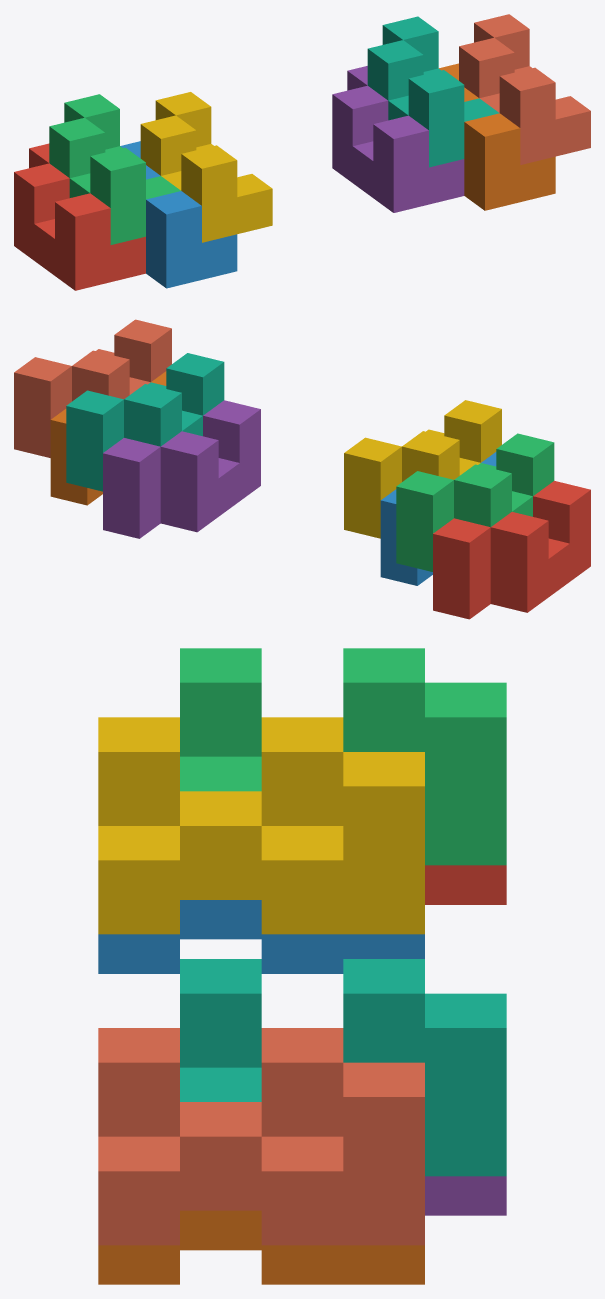
The model's file is tiling.obj.
The picture shows the model from 3 angles, top to bottom: view 1: azimuth 30°, elevation 25°; view 2: azimuth 150°, elevation 25°; view 3: azimuth 270°, elevation 25°; orthographic projection. The views are drawn at different scales.
Parts seen in each view (by area): view 1: copy_1_domain_5, copy_1_domain_1, copy_1_domain_4, copy_1_domain_8, copy_1_domain_7, copy_1_domain_3, copy_1_domain_6, copy_1_domain_2; view 2: copy_1_domain_1, copy_1_domain_5, copy_1_domain_7, copy_1_domain_3, copy_1_domain_4, copy_1_domain_8, copy_1_domain_6, copy_1_domain_2; view 3: copy_1_domain_8, copy_1_domain_4, copy_1_domain_3, copy_1_domain_7, copy_1_domain_6, copy_1_domain_2, copy_1_domain_1, copy_1_domain_5.
Part boxes in pixels (bbox=[...]): copy_1_domain_5: bbox=[332, 66, 464, 212]; copy_1_domain_1: bbox=[14, 143, 145, 290]; copy_1_domain_4: bbox=[140, 92, 272, 242]; copy_1_domain_8: bbox=[459, 14, 590, 164]; copy_1_domain_7: bbox=[367, 16, 499, 167]; copy_1_domain_3: bbox=[49, 94, 180, 244]; copy_1_domain_6: bbox=[439, 63, 555, 210]; copy_1_domain_2: bbox=[120, 141, 237, 288]; copy_1_domain_1: bbox=[433, 481, 590, 619]; copy_1_domain_5: bbox=[103, 400, 260, 538]; copy_1_domain_7: bbox=[66, 353, 224, 491]; copy_1_domain_3: bbox=[396, 433, 554, 571]; copy_1_domain_4: bbox=[344, 400, 501, 538]; copy_1_domain_8: bbox=[14, 319, 171, 457]; copy_1_domain_6: bbox=[50, 371, 166, 505]; copy_1_domain_2: bbox=[380, 452, 496, 585]; copy_1_domain_8: bbox=[98, 1028, 424, 1245]; copy_1_domain_4: bbox=[98, 717, 424, 934]; copy_1_domain_3: bbox=[180, 648, 506, 865]; copy_1_domain_7: bbox=[180, 959, 506, 1176]; copy_1_domain_6: bbox=[98, 1210, 424, 1284]; copy_1_domain_2: bbox=[98, 900, 424, 973]; copy_1_domain_1: bbox=[425, 865, 506, 904]; copy_1_domain_5: bbox=[425, 1176, 506, 1215].
Size of the model in its own units: 14 by 3 by 5.
